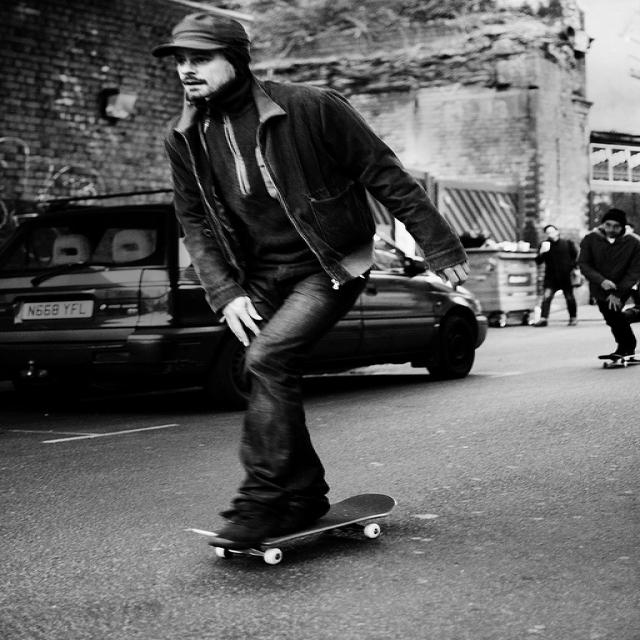Vehicle: (0, 188, 487, 414)
